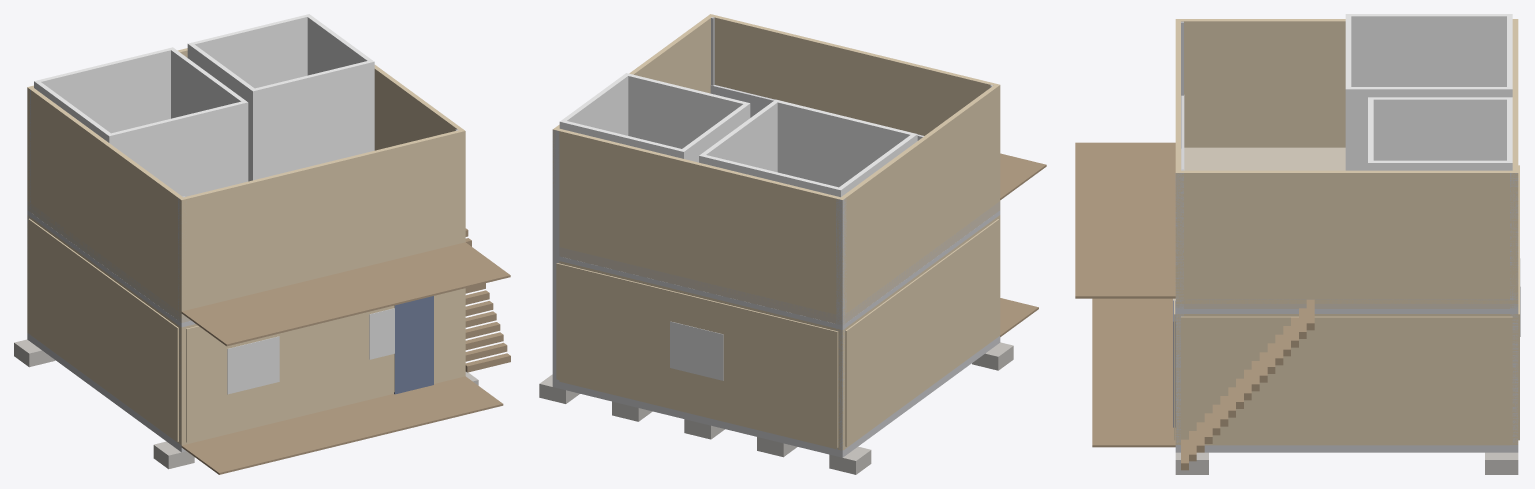
File: Duplex-20-Base-LightBrownSand-LOD2.glb
The picture shows the model from 3 angles, left to right: view 1: azimuth 30°, elevation 25°; view 2: azimuth 150°, elevation 25°; view 3: azimuth 270°, elevation 25°; orthographic projection. The views are drawn at different scales.
Parts seen in each view (by area): view 1: ExteriorShellUpper, ExteriorPanelsStandard, StudyUpper, BedroomUpper, BalconyUpper, BalconyGround, WindowsStandard, EntryDoor, StaircaseExternal, ExteriorShell, FoundationBlocks, FloorUpper (+2 smaller); view 2: ExteriorShellUpper, ExteriorPanelsStandard, BedroomUpper, StudyUpper, FloorUpper, VerticalStructure, FoundationBlocks, BaseFrame, ExteriorShell, WindowsStandard, TopFrame, BalconyUpper (+2 smaller); view 3: ExteriorShellUpper, ExteriorPanelsStandard, BalconyUpper, BedroomUpper, BalconyGround, StudyUpper, FloorUpper, StaircaseExternal, ExteriorShell, VerticalStructure, BaseFrame, TopFrame (+1 smaller).
Boxes of the visible parts, <box> form: ExteriorShellUpper: <box>27,48,465,317</box>; ExteriorPanelsStandard: <box>28,218,461,442</box>; StudyUpper: <box>187,14,374,181</box>; BedroomUpper: <box>34,47,248,196</box>; BalconyUpper: <box>181,242,510,346</box>; BalconyGround: <box>181,376,503,474</box>; WindowsStandard: <box>227,308,394,394</box>; EntryDoor: <box>394,296,433,394</box>; StaircaseExternal: <box>465,228,510,372</box>; ExteriorShell: <box>27,215,465,445</box>; FoundationBlocks: <box>14,339,478,469</box>; FloorUpper: <box>27,201,190,322</box>; ExteriorShellUpper: <box>552,14,1000,319</box>; ExteriorPanelsStandard: <box>556,219,999,447</box>; BedroomUpper: <box>699,99,917,197</box>; StudyUpper: <box>559,73,750,162</box>; FloorUpper: <box>559,201,1000,325</box>; VerticalStructure: <box>552,17,998,450</box>; FoundationBlocks: <box>539,342,1013,474</box>; BaseFrame: <box>552,336,1000,457</box>; ExteriorShell: <box>559,215,1000,450</box>; WindowsStandard: <box>670,321,723,380</box>; TopFrame: <box>559,210,1000,329</box>; BalconyUpper: <box>1000,153,1046,199</box>; ExteriorShellUpper: <box>1175,19,1518,303</box>; ExteriorPanelsStandard: <box>1174,165,1519,443</box>; BalconyUpper: <box>1075,142,1175,298</box>; BedroomUpper: <box>1345,14,1512,170</box>; BalconyGround: <box>1092,298,1175,447</box>; StudyUpper: <box>1368,97,1512,170</box>; FloorUpper: <box>1175,147,1518,308</box>; StaircaseExternal: <box>1181,299,1314,470</box>; ExteriorShell: <box>1175,314,1518,445</box>; VerticalStructure: <box>1175,21,1518,445</box>; BaseFrame: <box>1175,445,1518,452</box>; TopFrame: <box>1175,309,1518,313</box>.
Bounding box in the file's own units: 7.94 × 6 × 8.
